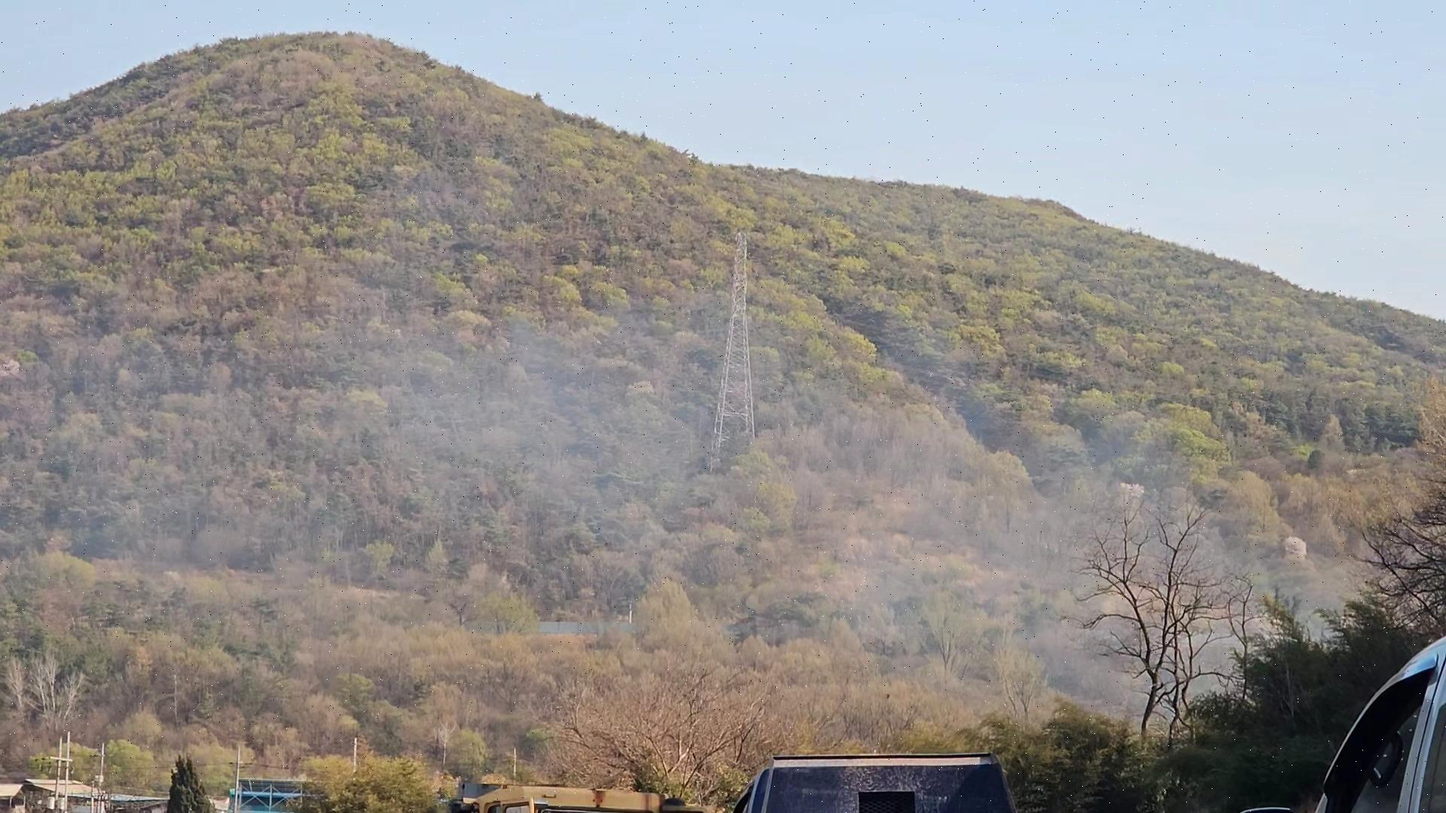smoke: (438, 319, 1353, 719)
